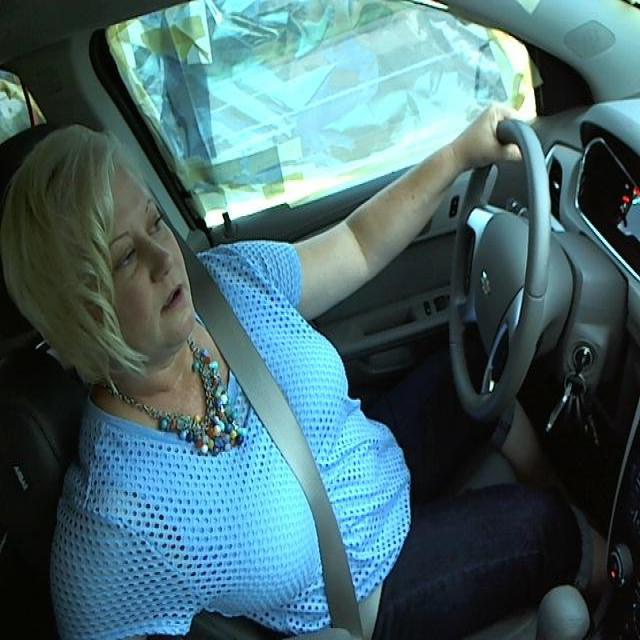seatbelt: (196, 304, 381, 633)
